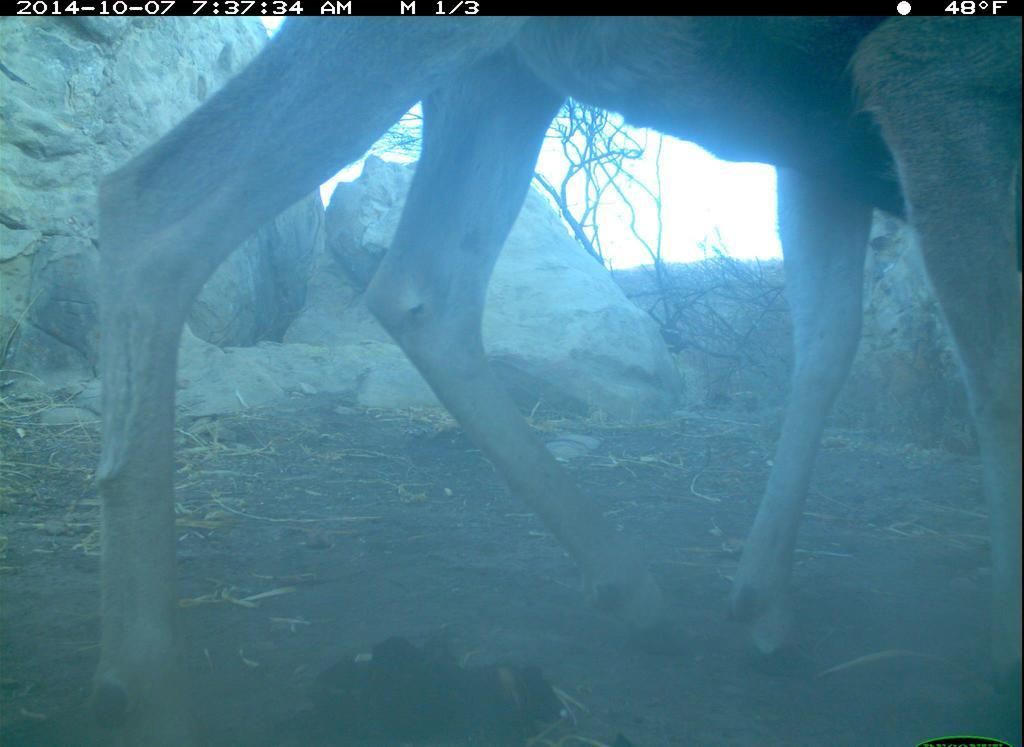deer: (76, 11, 1023, 739)
